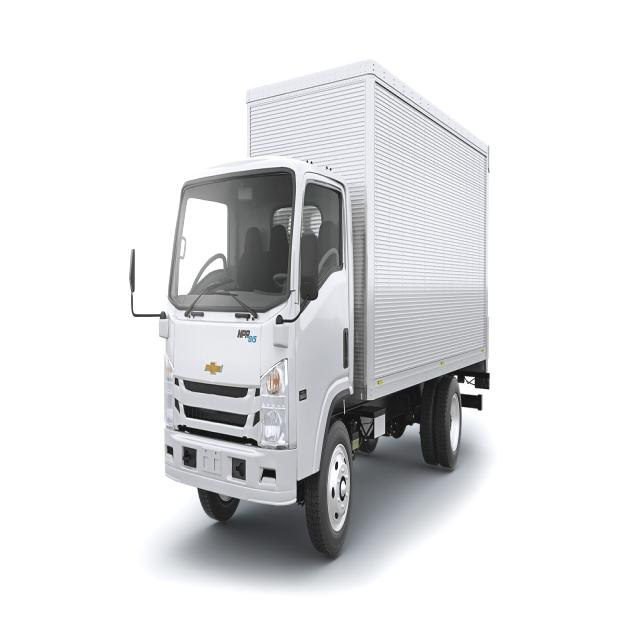TRUCK: (142, 60, 497, 547)
